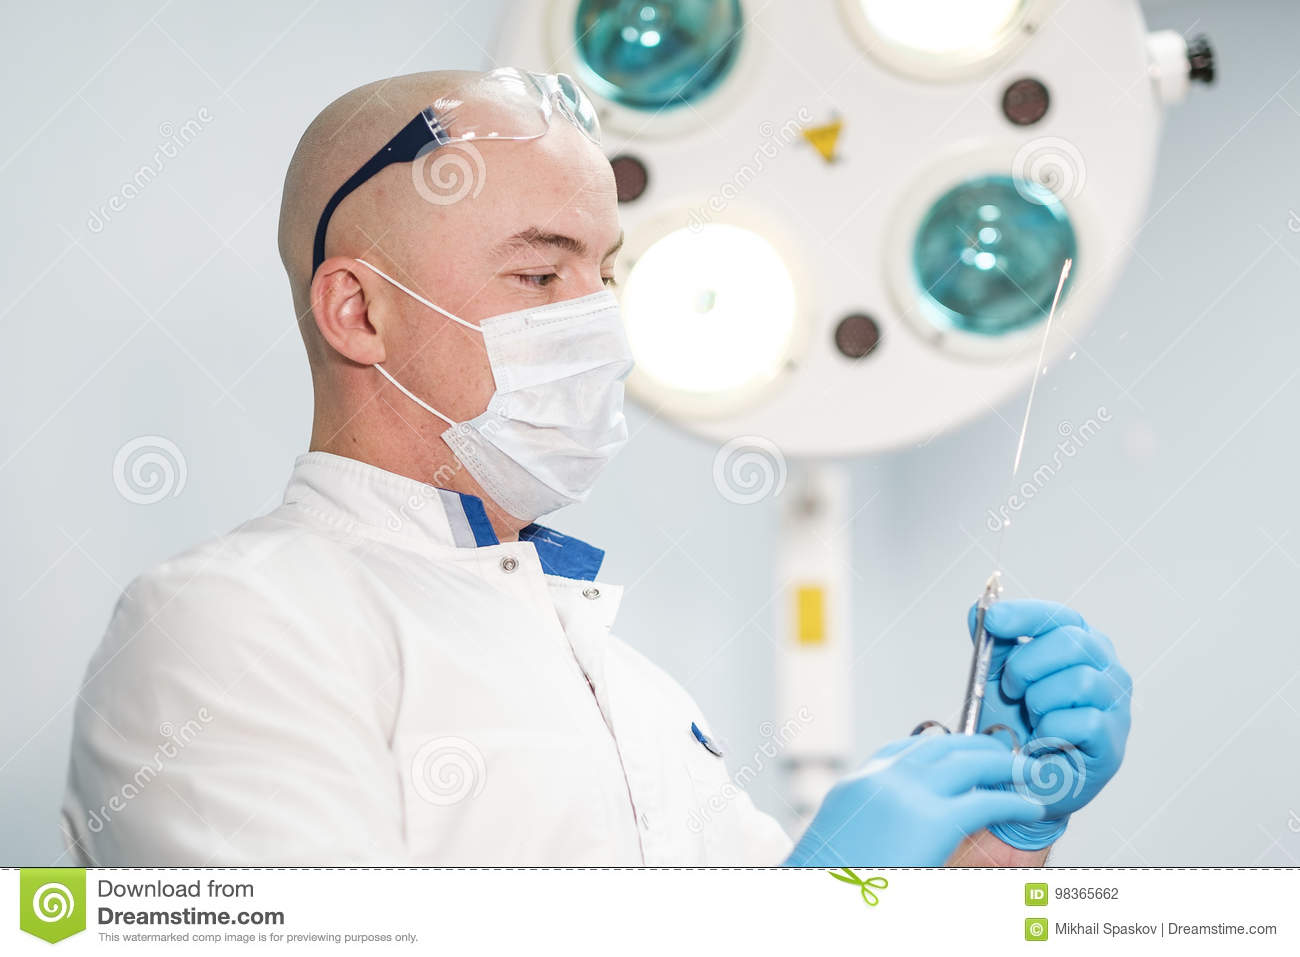mask: (466, 291, 669, 524)
